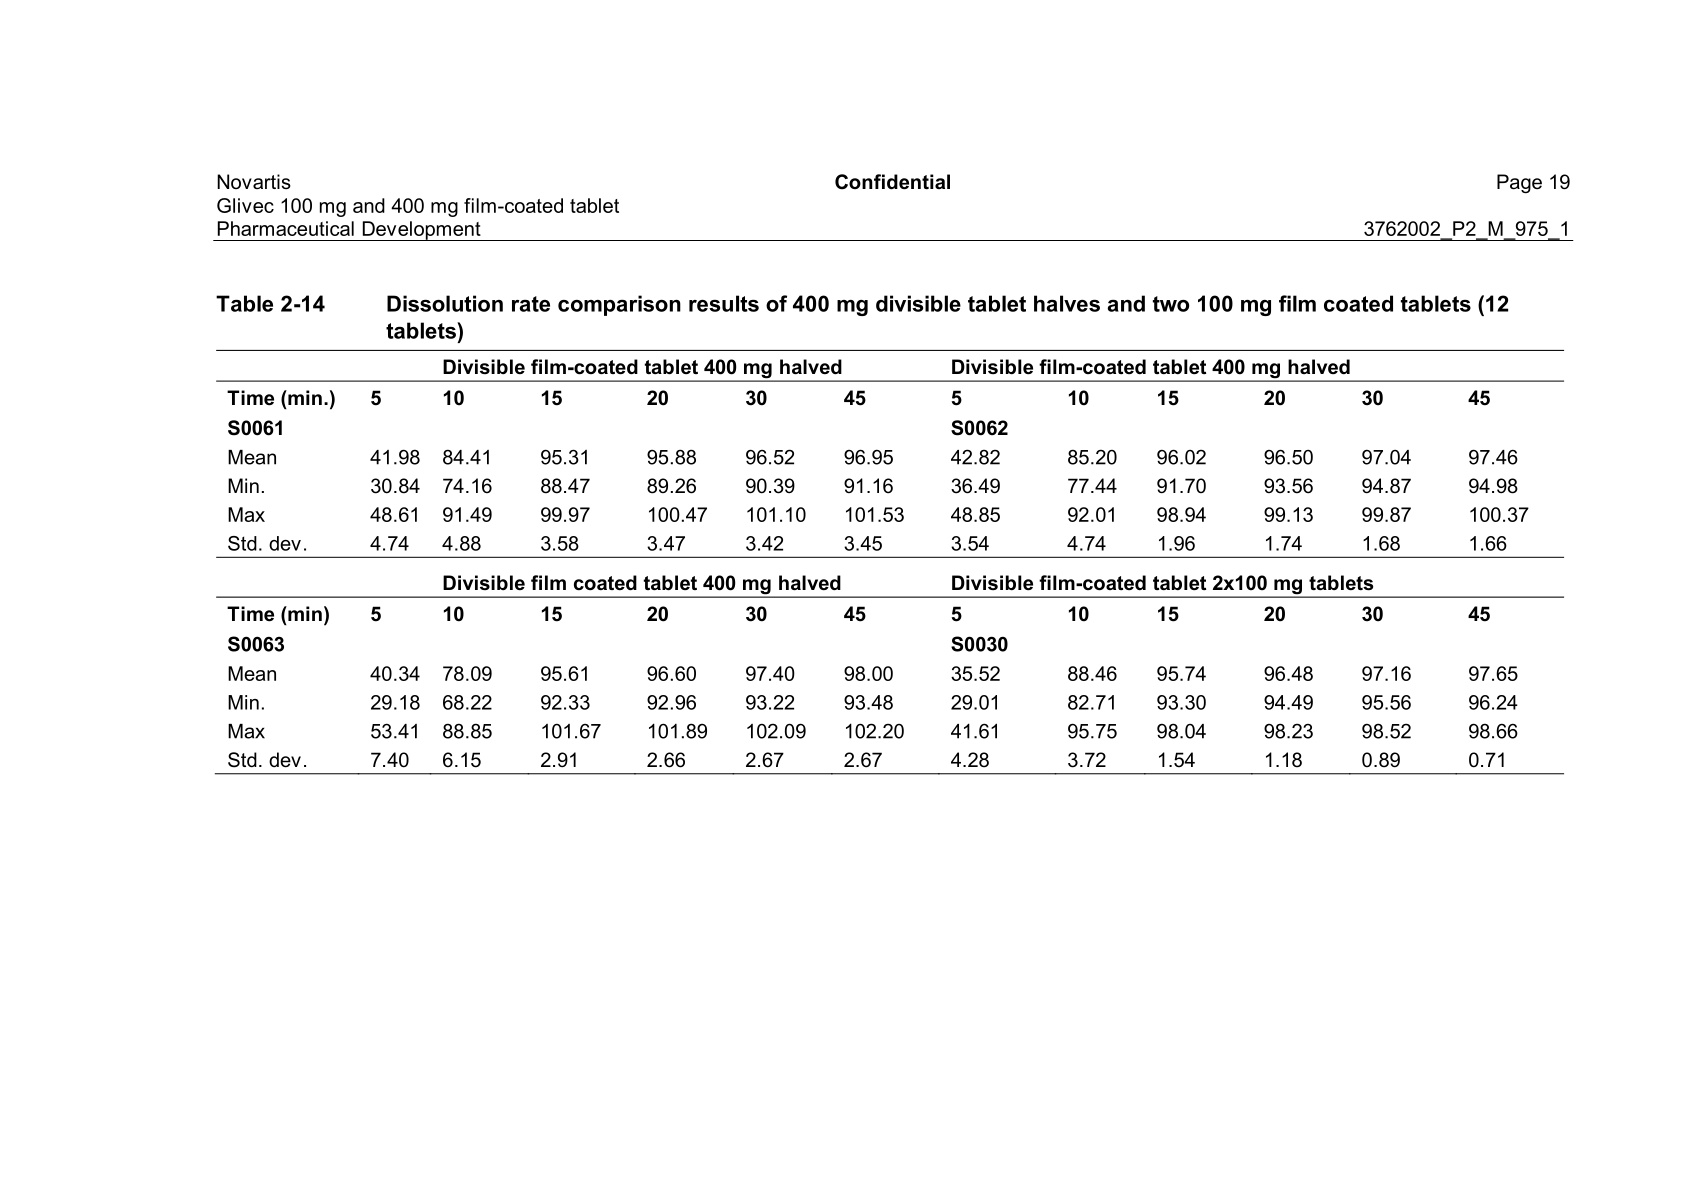partial_lined: (212, 346, 1564, 779)
